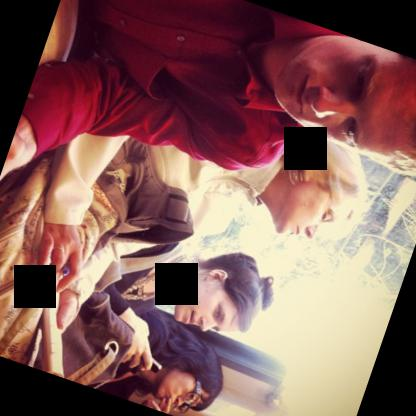handbag: (90, 136, 202, 254), (60, 293, 133, 387), (93, 241, 185, 292)
